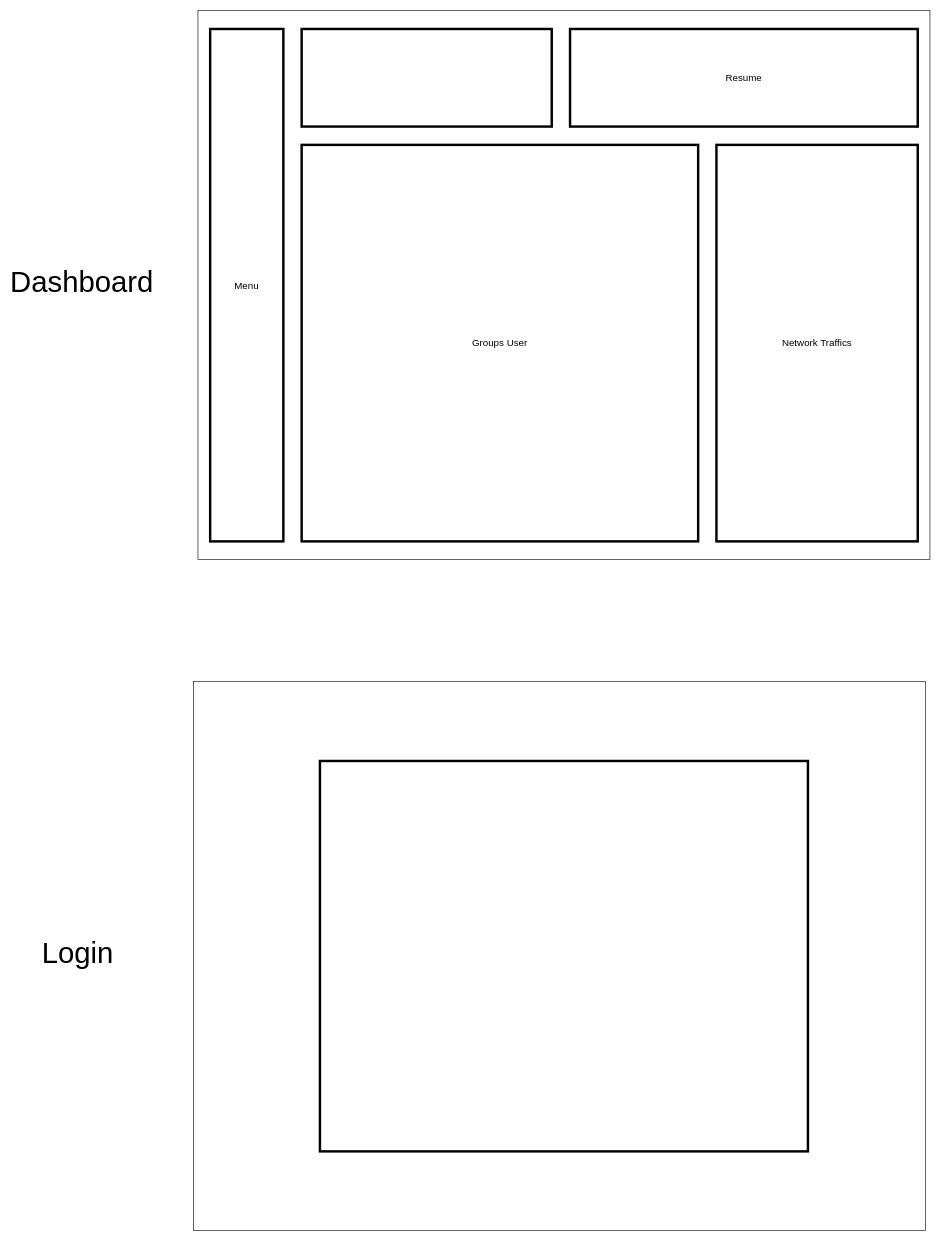
This 941x1241 diagram has some shape labels left out. The box of each missing label's shape, as (x1, y1, x2, y2) in pixels:
Interfaces: (300, 27, 553, 127)
LoginForm: (318, 759, 809, 1152)
